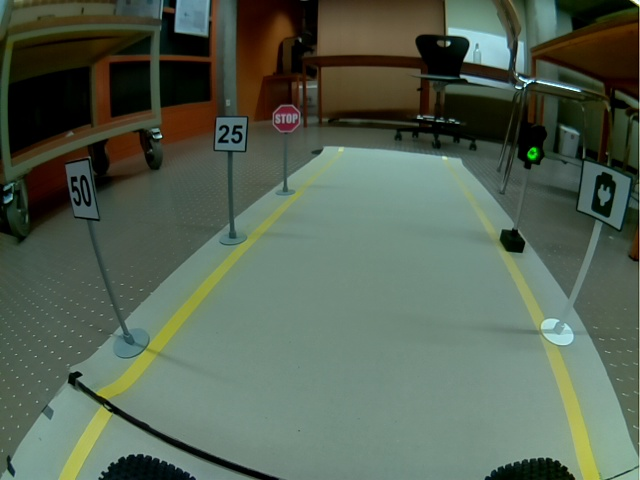battery: (576, 160, 633, 232)
speed25: (214, 115, 247, 152)
speed50: (64, 156, 101, 221)
stop: (272, 104, 301, 133)
trafficLightGreen: (518, 121, 547, 165)
